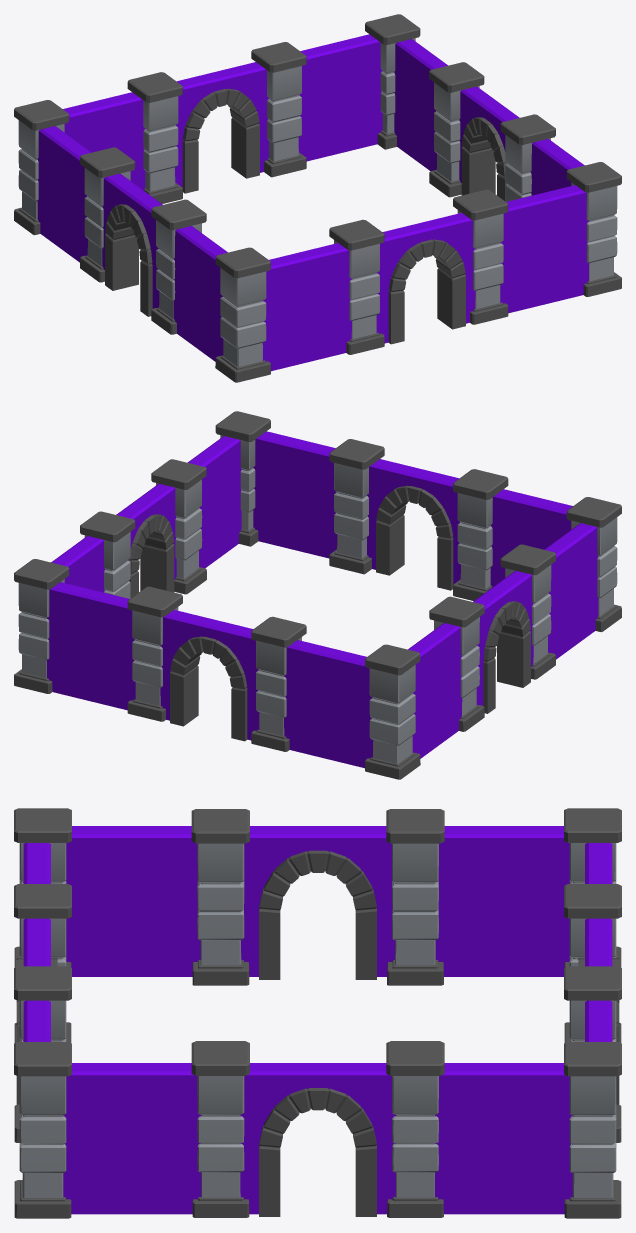
File: BossRoom.fbx
3 views of the same model, one above another, from view 1: azimuth 30°, elevation 25°; view 2: azimuth 150°, elevation 25°; view 3: azimuth 270°, elevation 25° (orthographic). The views are drawn at different scales.
Parts seen in each view (by area): view 1: Room; view 2: Room; view 3: Room.
Boxes of the visible parts, x1,y1,x2,y2 form: Room: [14, 14, 621, 382]; Room: [14, 411, 621, 779]; Room: [14, 808, 621, 1218].
Size of the model in its own units: 1568 by 435 by 1562.
